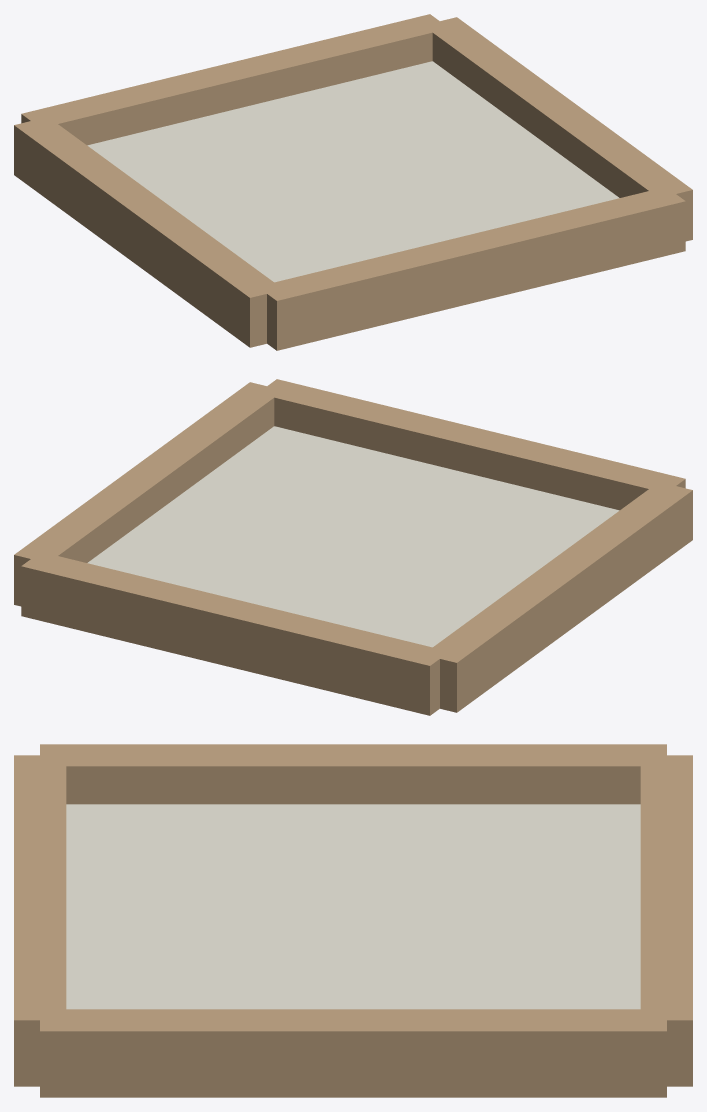
File: voxel-city-districts-sandpit-8e3faa33__24869.glb
3 renders of one model, top to bottom at view 1: azimuth 30°, elevation 25°; view 2: azimuth 150°, elevation 25°; view 3: azimuth 270°, elevation 25°, orthographic. The views are drawn at different scales.
Parts seen in each view (by area): view 1: sandpit-wood, sandpit-concrete; view 2: sandpit-wood, sandpit-concrete; view 3: sandpit-wood, sandpit-concrete.
Part boxes in pixels (x1,y1,x2,y2): sandpit-wood: [14, 14, 692, 350]; sandpit-concrete: [87, 61, 619, 282]; sandpit-wood: [14, 379, 692, 715]; sandpit-concrete: [87, 426, 619, 647]; sandpit-wood: [14, 744, 692, 1097]; sandpit-concrete: [66, 804, 640, 1009].
Size of the model in its own units: 3.25 by 0.35 by 3.25.
